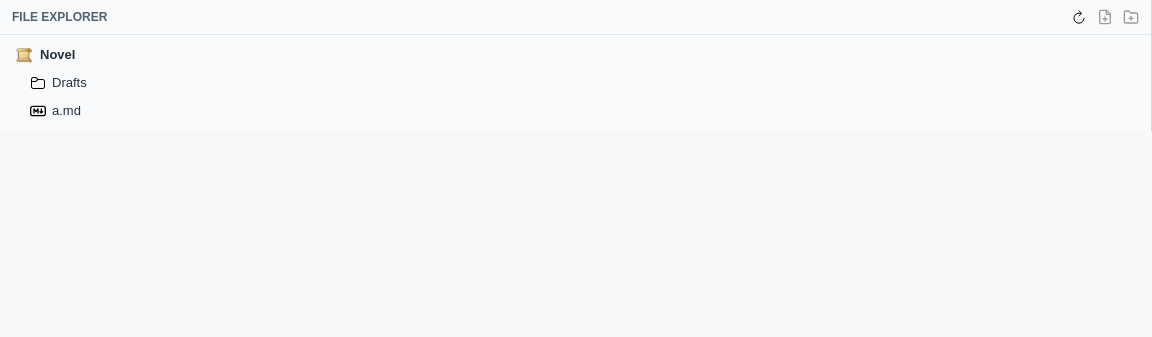
Scenario: FileExplorer create context menu (#355) › disables create items in a read-only project
The width and height of the screenshot is (1152, 337).
Right-click the element with class "fileExplorerList": [576, 83] box [0,35,1151,131]
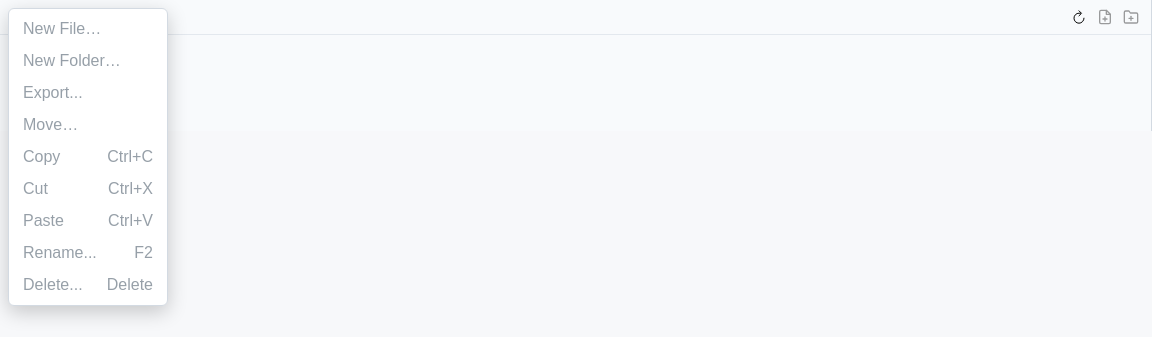
Now the menu item "New File…" is disabled, box [13,13,163,45]
Now the menu item "New Folder…" is disabled, box [13,45,163,77]
